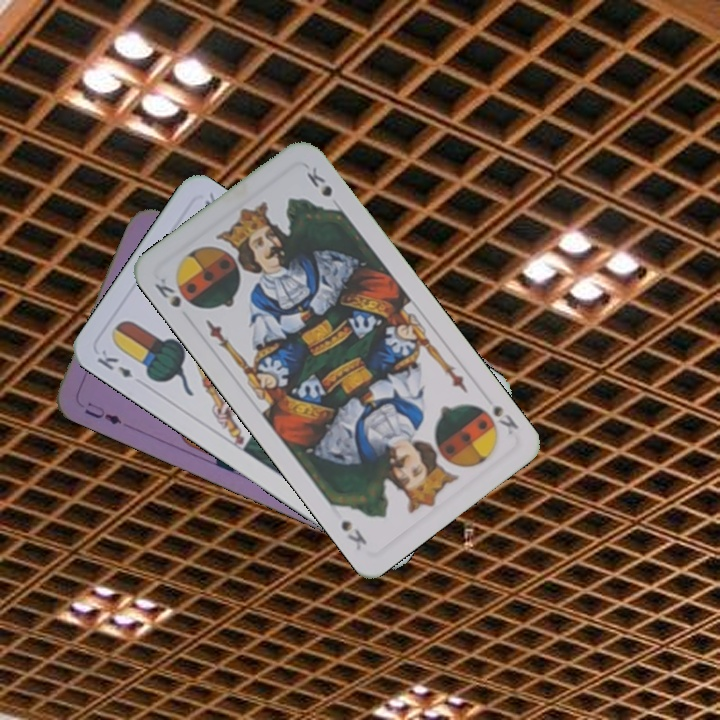EK: (93, 345, 135, 380)
EU: (80, 398, 124, 427)
SK: (150, 273, 184, 310), (488, 401, 521, 438)
